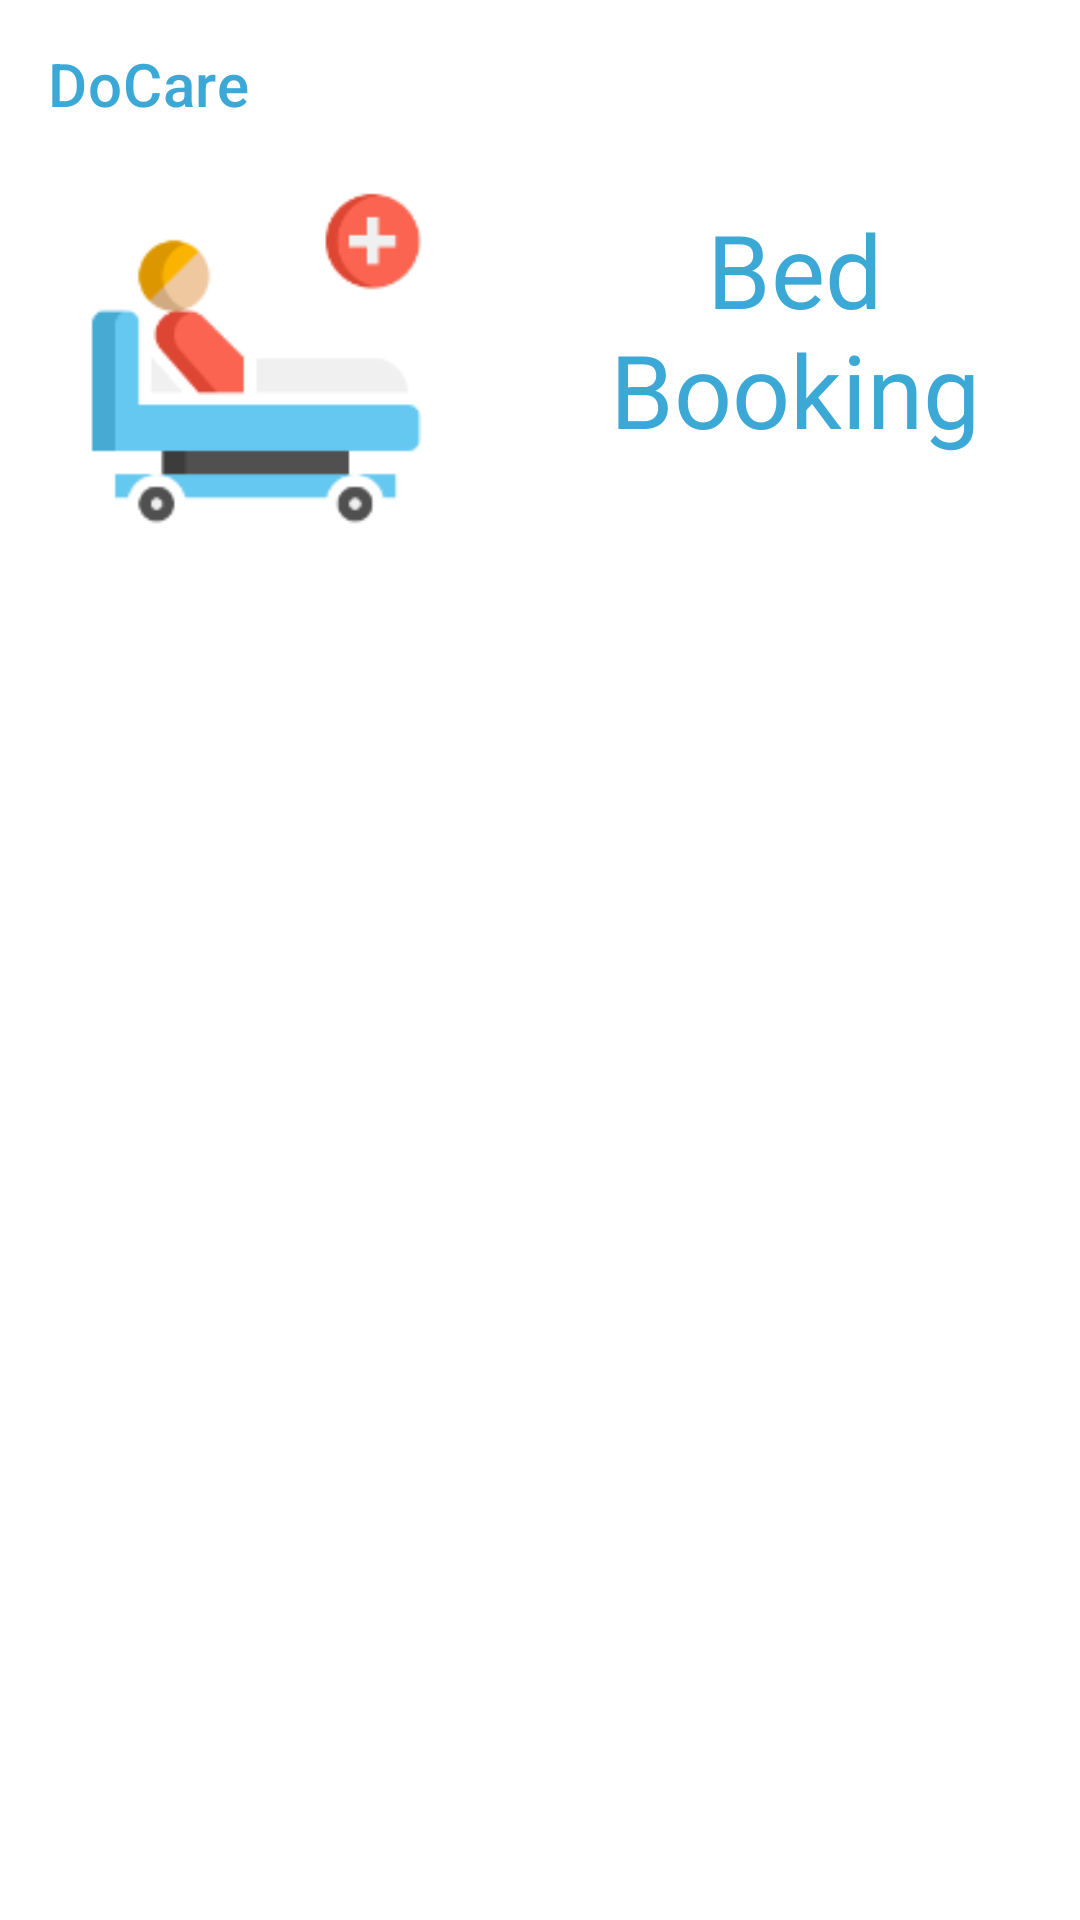

Named icons in this screenshot (1080×1920) and their bounding boxes, (x1, y1, x2, y2):
hospitalbed: (91, 193, 421, 523)
